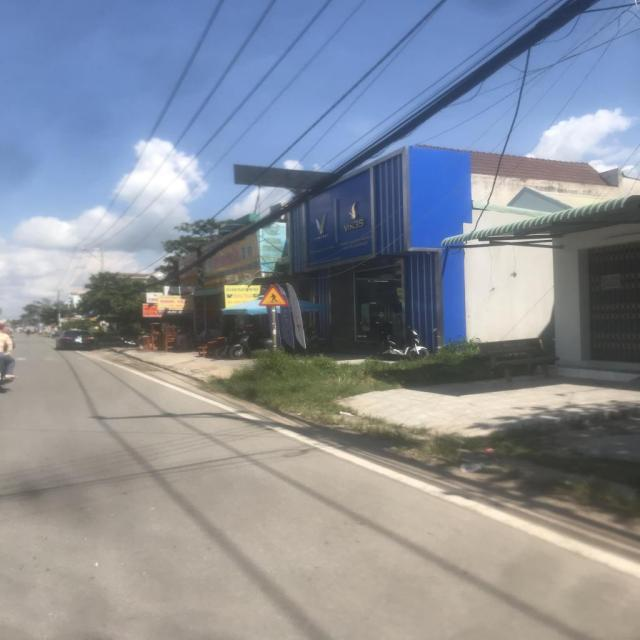chu_y_nguoi_di_bo_cat_ngang: (258, 284, 290, 306)
